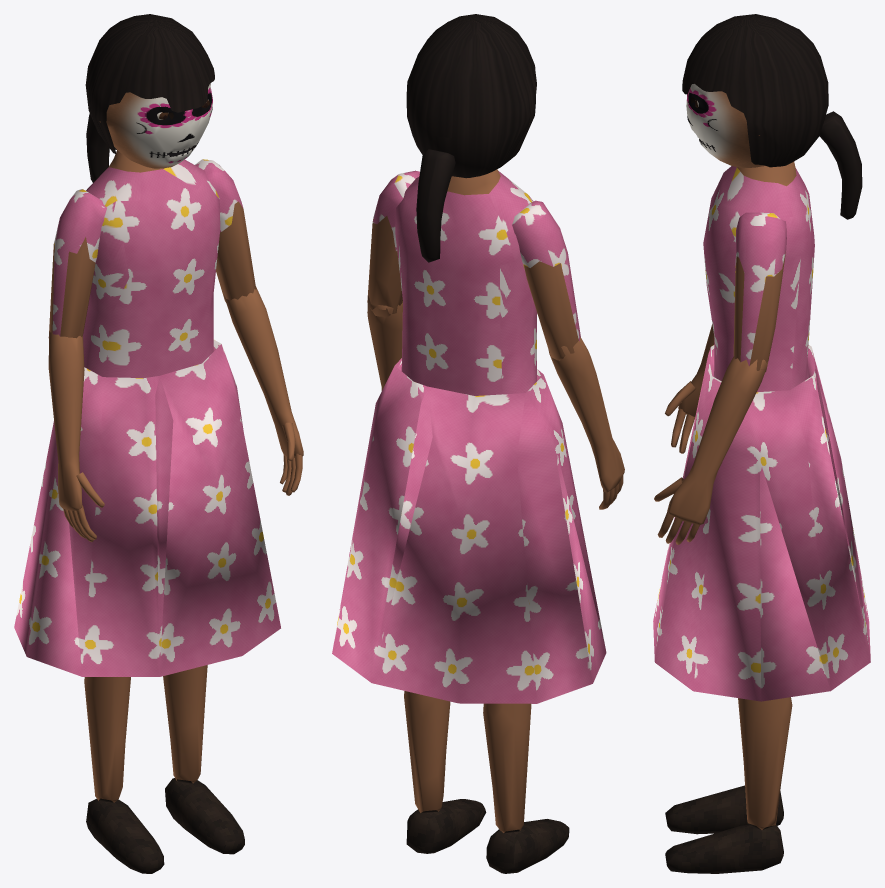
File: persona_nina_calavera_lod.obj
3 views of the same model, side by side, from view 1: azimuth 30°, elevation 25°; view 2: azimuth 150°, elevation 25°; view 3: azimuth 270°, elevation 25° (orthographic). The views are drawn at different scales.
Parts seen in each view (by area): view 1: Falda, Torso, Pelo, PiernaDer, PiernaIzq, AntebrazoDer, BrazoDer, Cabeza, AntebrazoIzq, BrazoIzq; view 2: Falda, Torso, Pelo, PiernaDer, PiernaIzq, BrazoDer, AntebrazoDer, BrazoIzq, AntebrazoIzq; view 3: Falda, Pelo, Torso, PiernaIzq, BrazoIzq, AntebrazoIzq, Cabeza, PiernaDer, AntebrazoDer.
Boxes of the visible parts, bbox=[...] form: Falda: bbox=[14, 340, 280, 676]; Torso: bbox=[83, 150, 220, 378]; Pelo: bbox=[85, 14, 214, 182]; PiernaDer: bbox=[84, 677, 164, 873]; PiernaIzq: bbox=[163, 665, 244, 854]; AntebrazoDer: bbox=[48, 332, 104, 542]; BrazoDer: bbox=[48, 189, 106, 338]; Cabeza: bbox=[99, 84, 212, 168]; AntebrazoIzq: bbox=[224, 287, 303, 495]; BrazoIzq: bbox=[195, 159, 256, 301]; Falda: bbox=[332, 358, 606, 703]; Torso: bbox=[395, 169, 537, 395]; Pelo: bbox=[406, 14, 536, 262]; PiernaDer: bbox=[483, 703, 569, 873]; PiernaIzq: bbox=[404, 691, 486, 853]; BrazoDer: bbox=[512, 200, 580, 360]; AntebrazoDer: bbox=[548, 337, 624, 509]; BrazoIzq: bbox=[367, 170, 419, 316]; AntebrazoIzq: bbox=[367, 295, 402, 390]; Falda: bbox=[653, 345, 870, 701]; Pelo: bbox=[682, 14, 862, 219]; Torso: bbox=[703, 161, 814, 392]; PiernaIzq: bbox=[665, 697, 792, 873]; BrazoIzq: bbox=[733, 212, 786, 372]; AntebrazoIzq: bbox=[654, 356, 768, 544]; Cabeza: bbox=[686, 84, 765, 168]; PiernaDer: bbox=[665, 785, 783, 834]; AntebrazoDer: bbox=[665, 324, 714, 453].
Size of the model in its own units: 0.3554 by 1.15 by 0.2726.
Materials: 10 (10 with a texture image).
